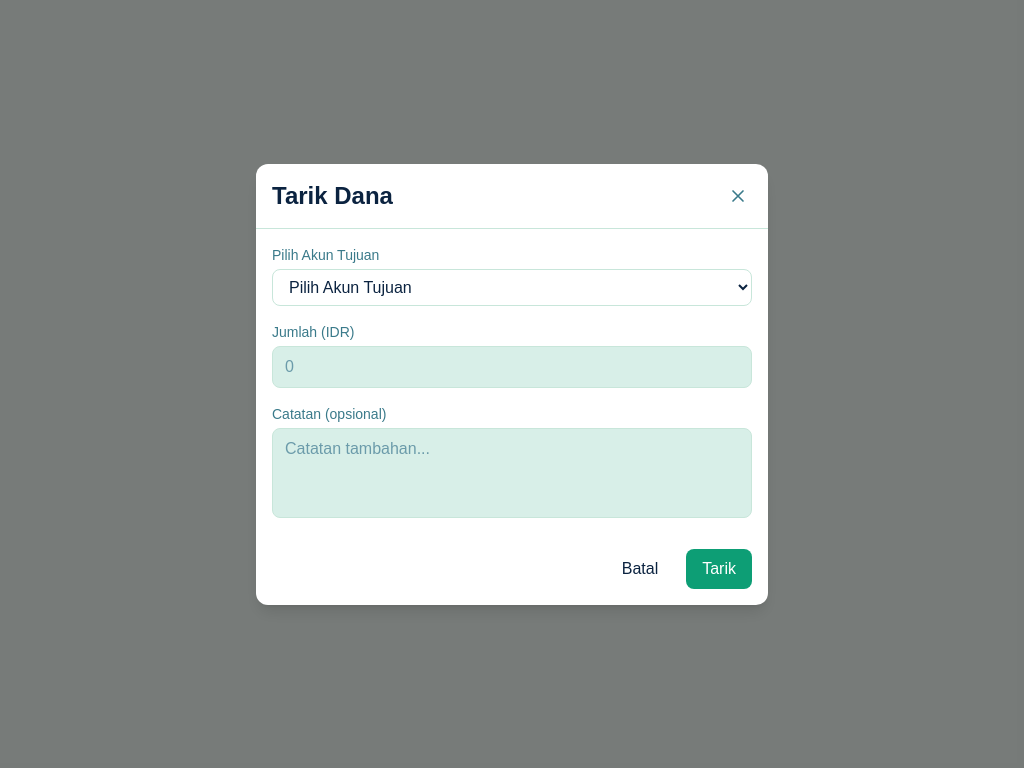
it: ContributionForm › shows error when withdraw amount exceeds currentAmount
Select "BCA — Rp 5.000.000" in the dropdown labelled "Pilih Akun Tujuan": {"x": 512, "y": 287} x1=272 y1=268 x2=752 y2=306
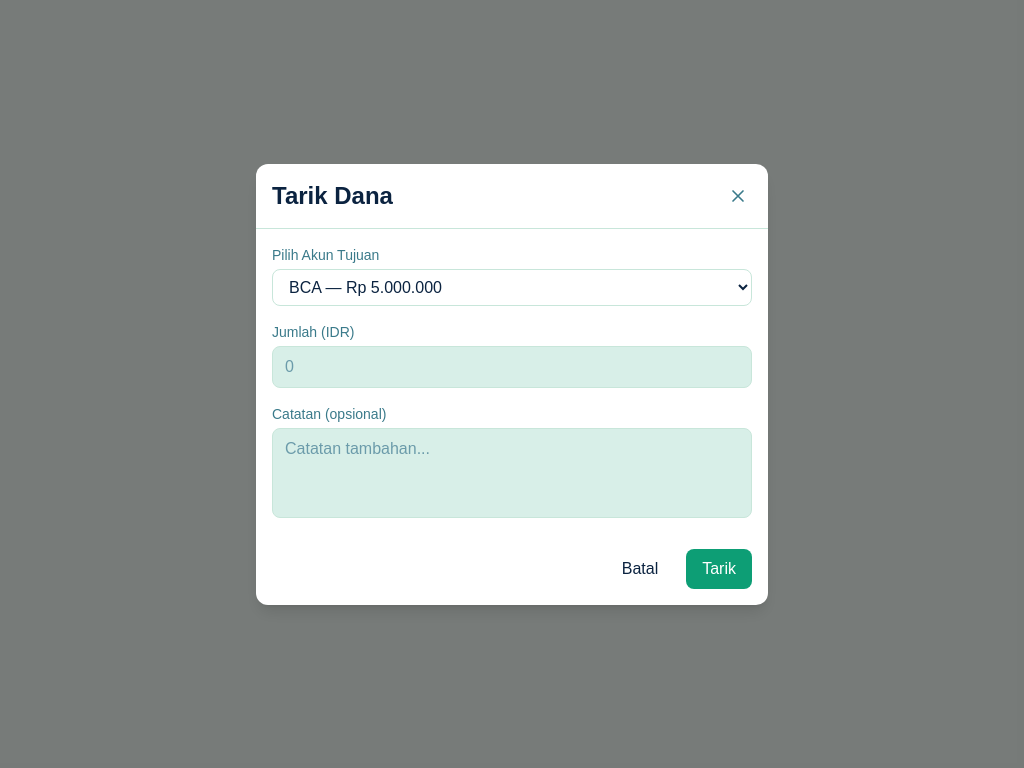
In the number field labelled "Jumlah (IDR)": {"x": 512, "y": 366} x1=272 y1=346 x2=752 y2=388, type "600000"
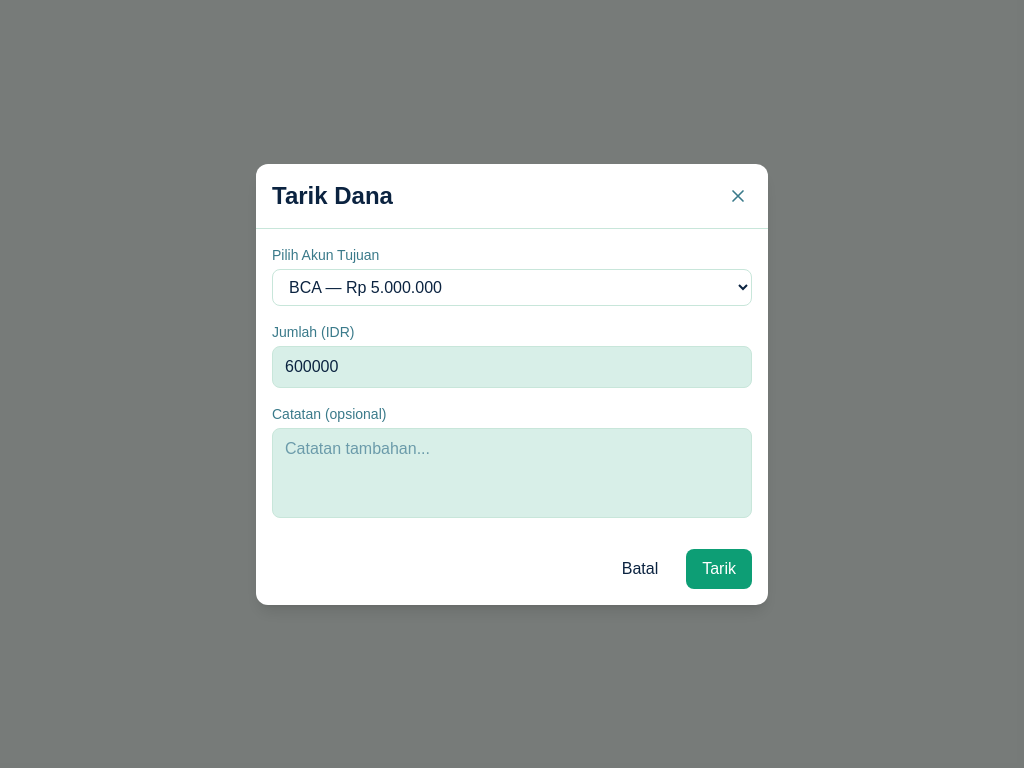
Click the button "Tarik": {"x": 719, "y": 568} x1=686 y1=548 x2=752 y2=588
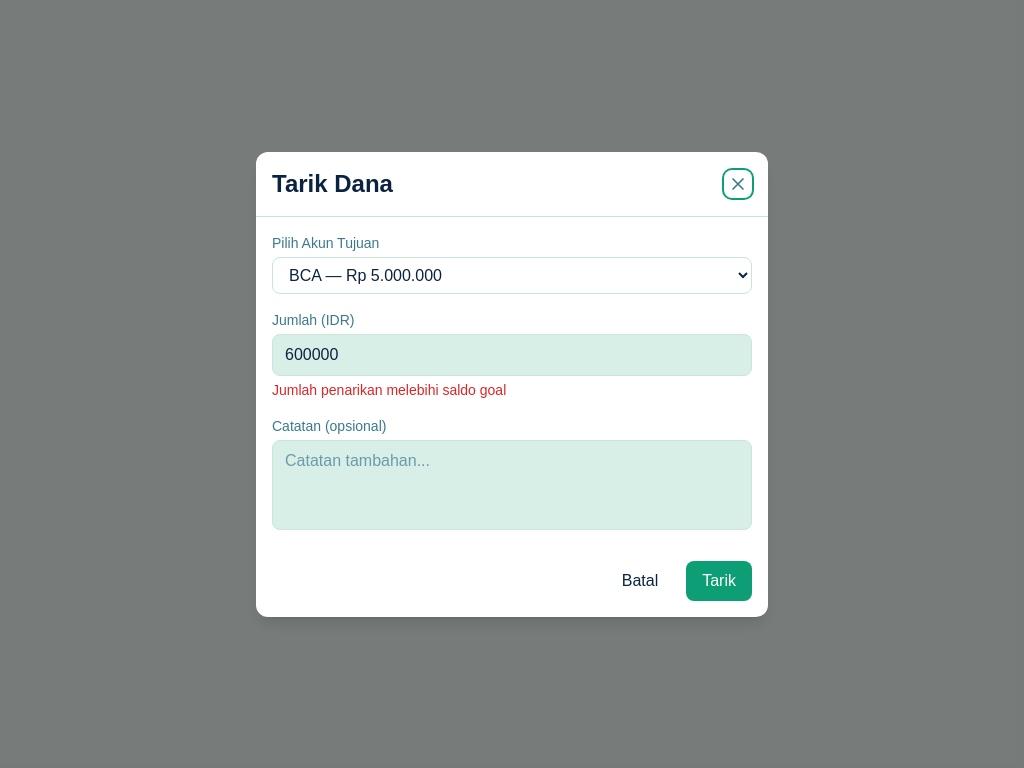
Expected: the text "Jumlah penarikan melebihi saldo goal" is shown, x1=272 y1=382 x2=506 y2=398
